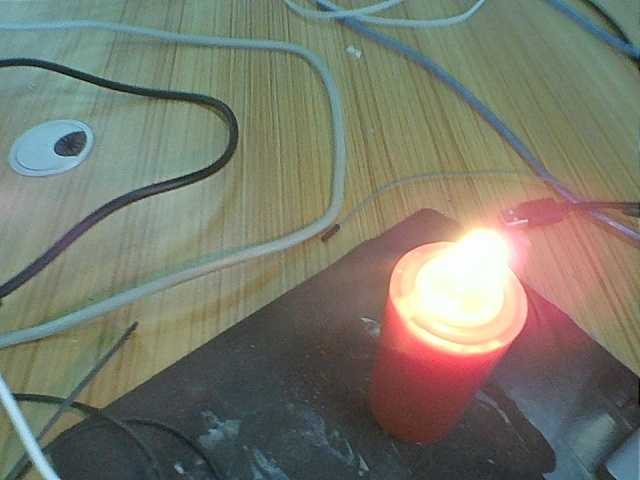candle: (370, 319, 513, 450)
fire: (403, 223, 526, 330)
